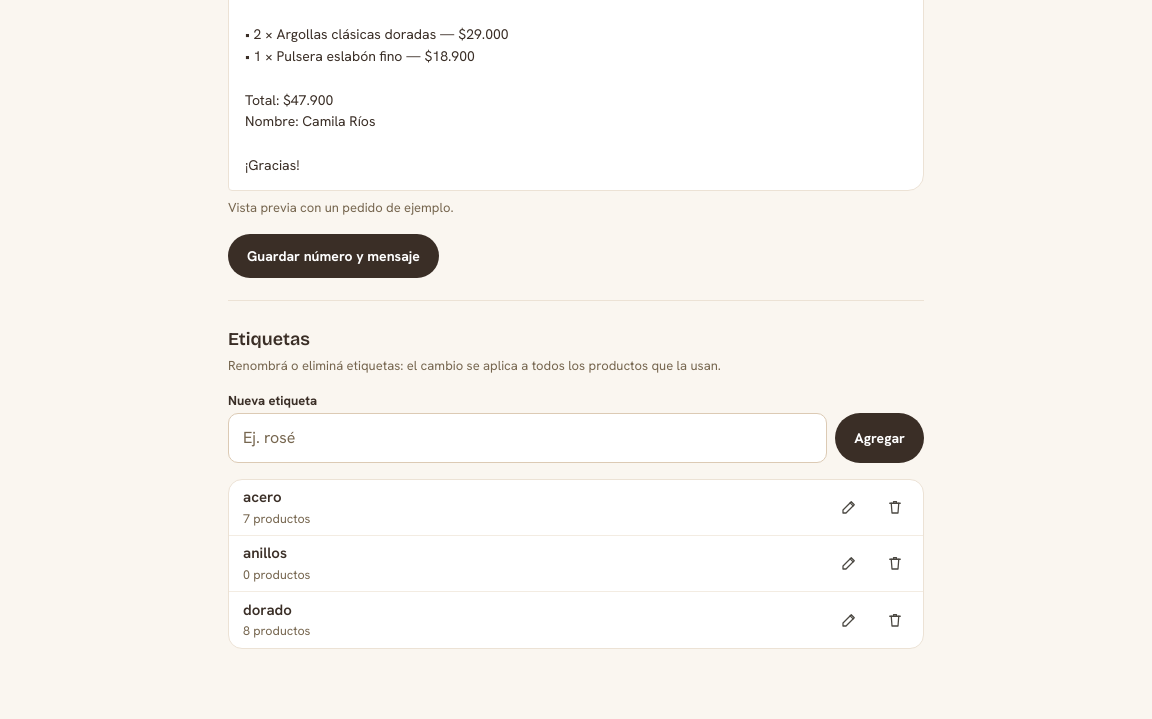
Test: AjustesPage · etiquetas › eliminar pide confirmación con la cantidad de productos
The width and height of the screenshot is (1152, 719).
(page scrolled)
Click the button named "Eliminar etiqueta acero" at (895,507), box [873, 485, 917, 529]
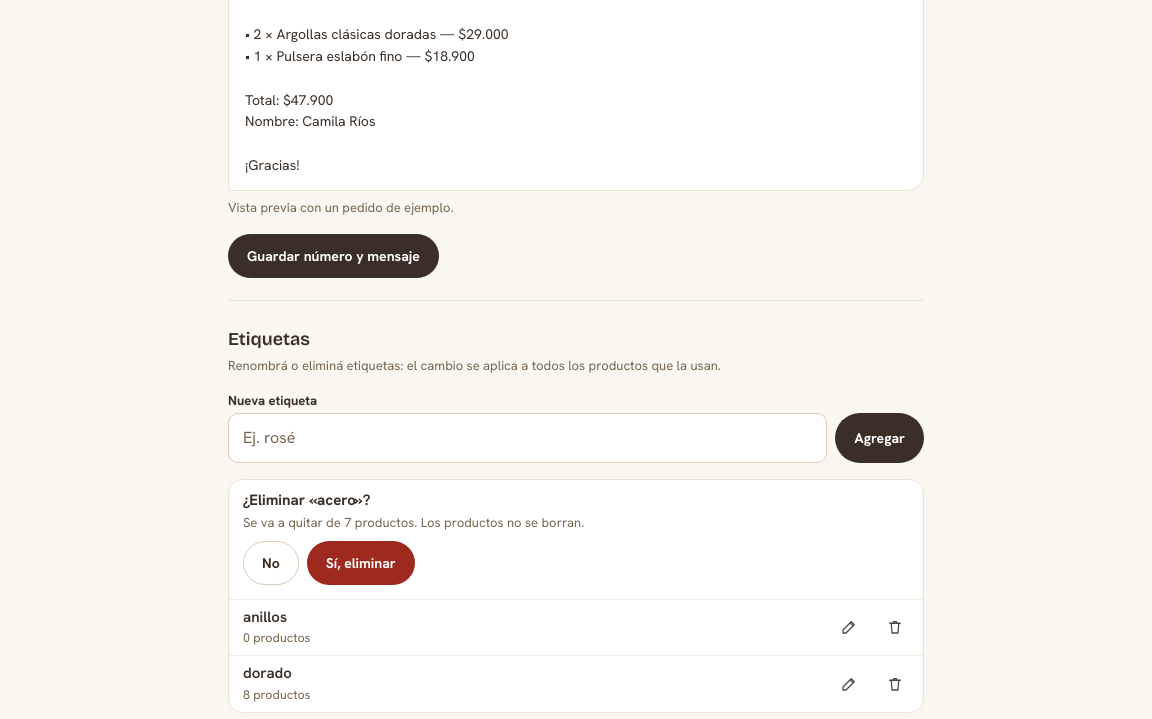
Now the dialog "¿Eliminar «acero»?" shows "Se va a quitar de 7 productos. Los productos no se borran.", box [243, 514, 584, 531]
Click the button "No" at (271,562), box [243, 540, 299, 584]
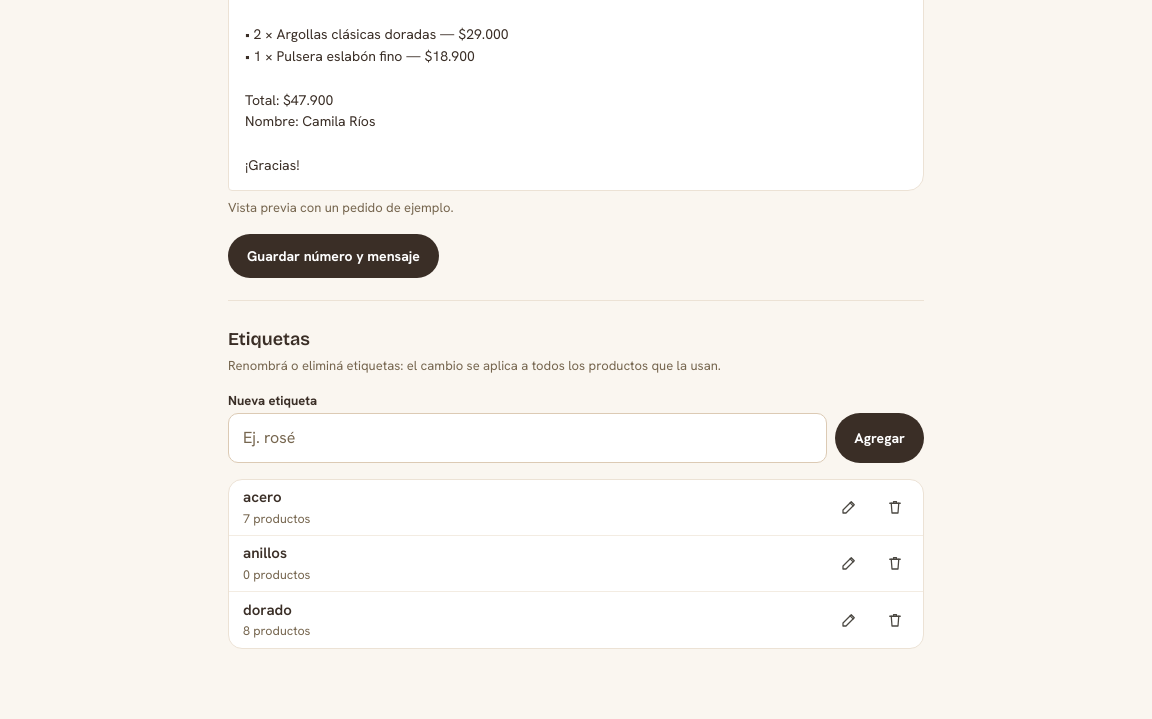
Click the button named "Eliminar etiqueta anillos" at (895,563), box [873, 541, 917, 585]
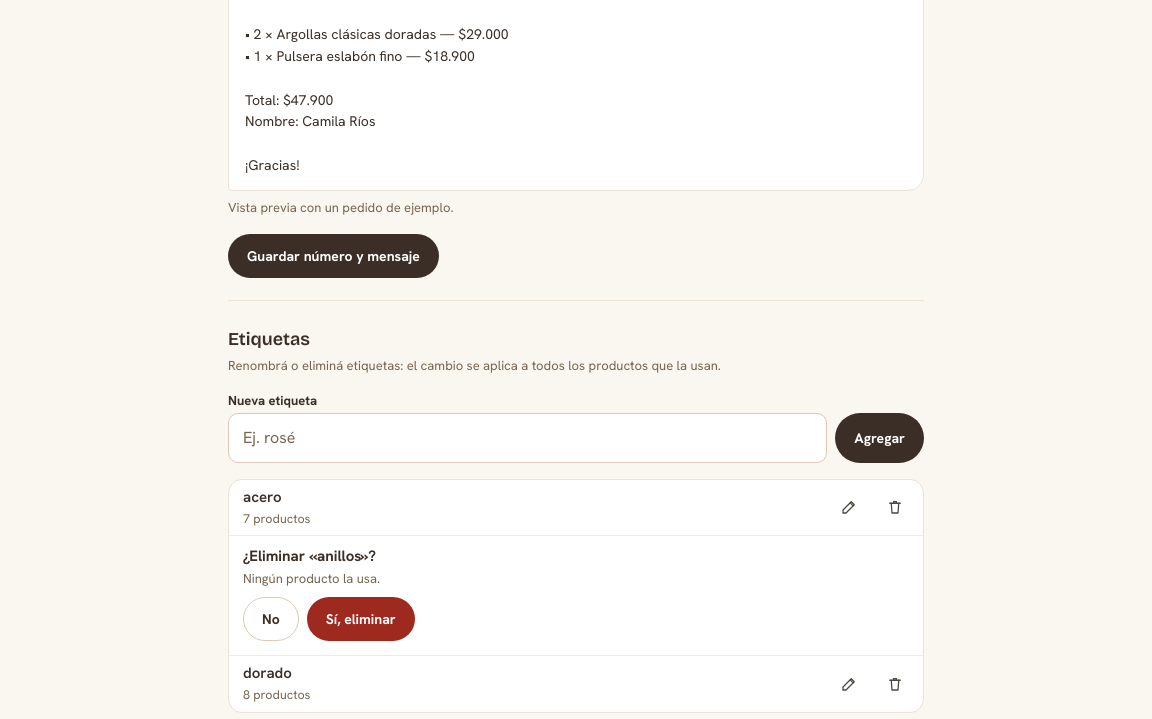
Now the dialog shows "Ningún producto la usa.", box [243, 570, 380, 587]
Click the button "Sí, eliminar" at (361,618), box [307, 596, 415, 640]
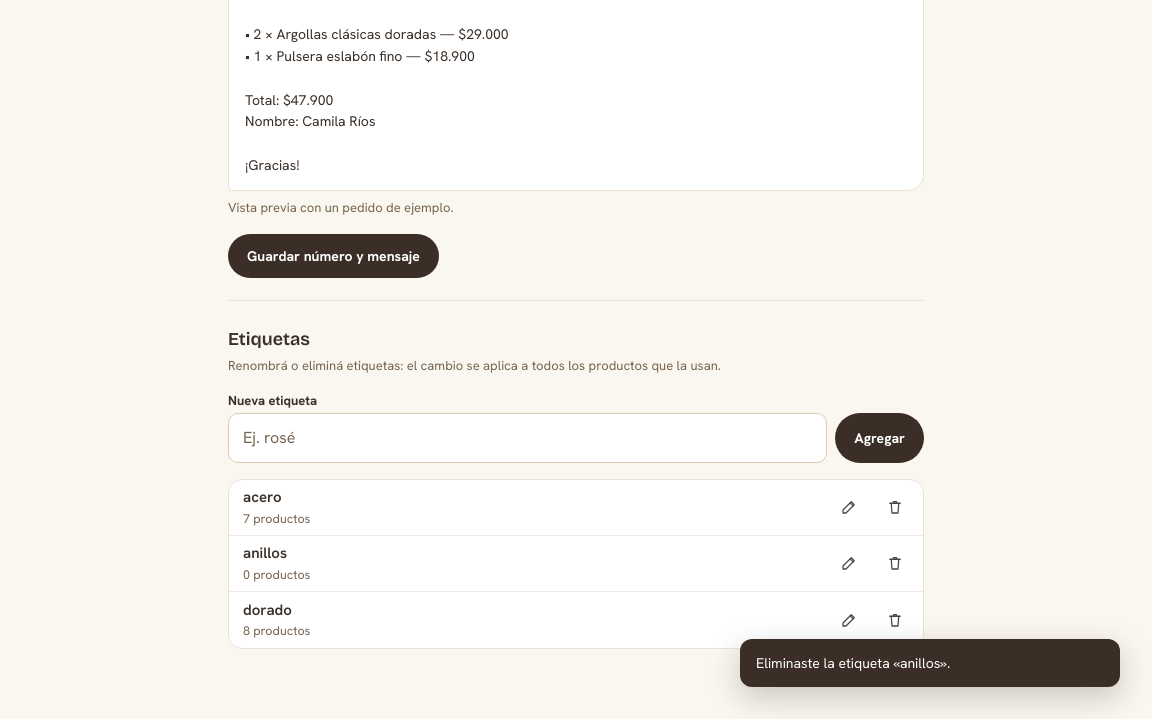
Now the text "Eliminaste la etiqueta «anillos»." is shown, box [740, 639, 1120, 687]
